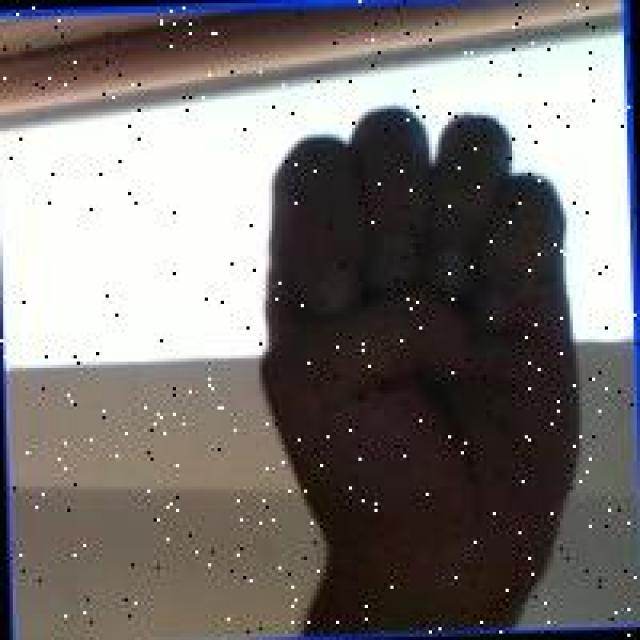E: (243, 96, 592, 630)
